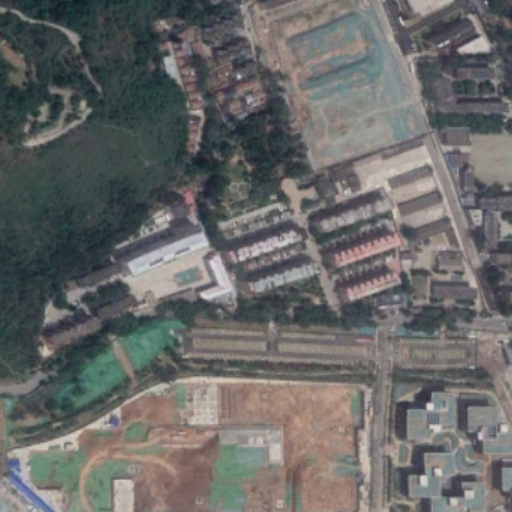cw: (20, 380, 367, 510), (249, 2, 434, 170), (41, 316, 183, 416)
